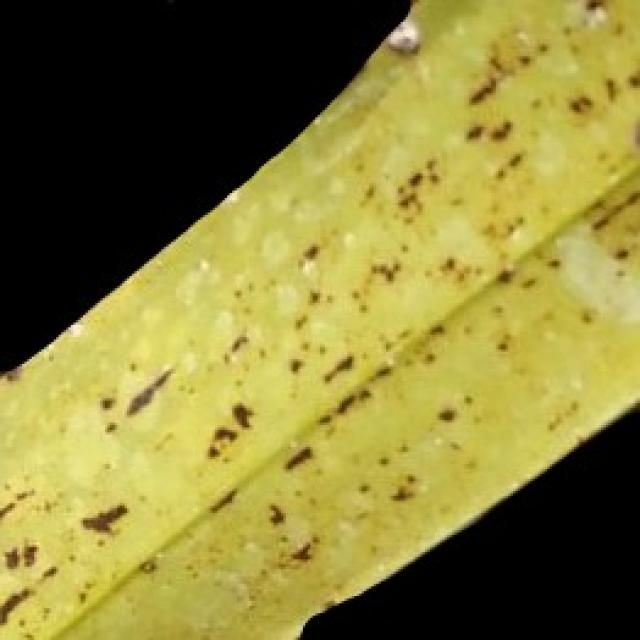mite: (384, 15, 423, 56), (623, 105, 638, 154), (435, 403, 457, 423), (630, 110, 638, 149), (154, 0, 178, 7)
